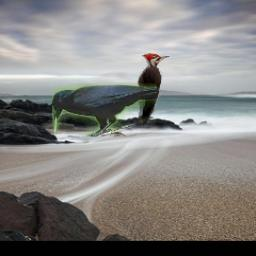Crow: (52, 83, 157, 137)
Woodpecker: (138, 53, 172, 125)
